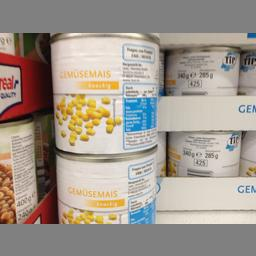corn: (49, 33, 159, 153), (52, 148, 156, 222), (164, 129, 242, 175), (164, 47, 238, 94)
